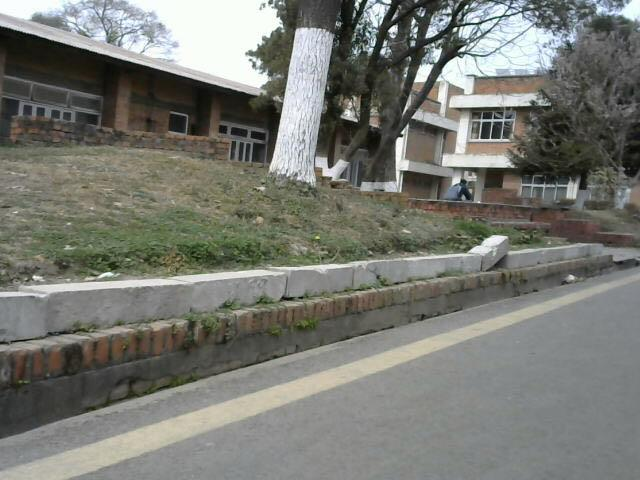Building: (3, 11, 299, 185), (468, 71, 554, 198)
Tree: (14, 265, 639, 480), (346, 0, 431, 179), (282, 3, 334, 188)
